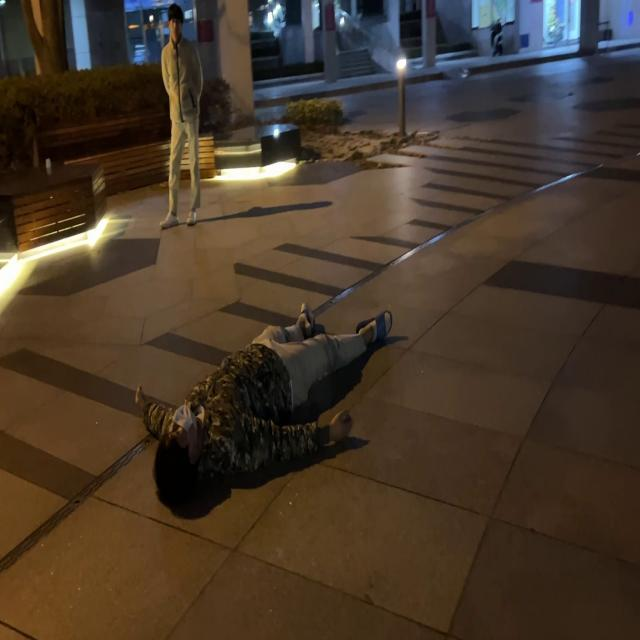Fall: (135, 305, 393, 506)
Stand: (161, 3, 202, 229)
